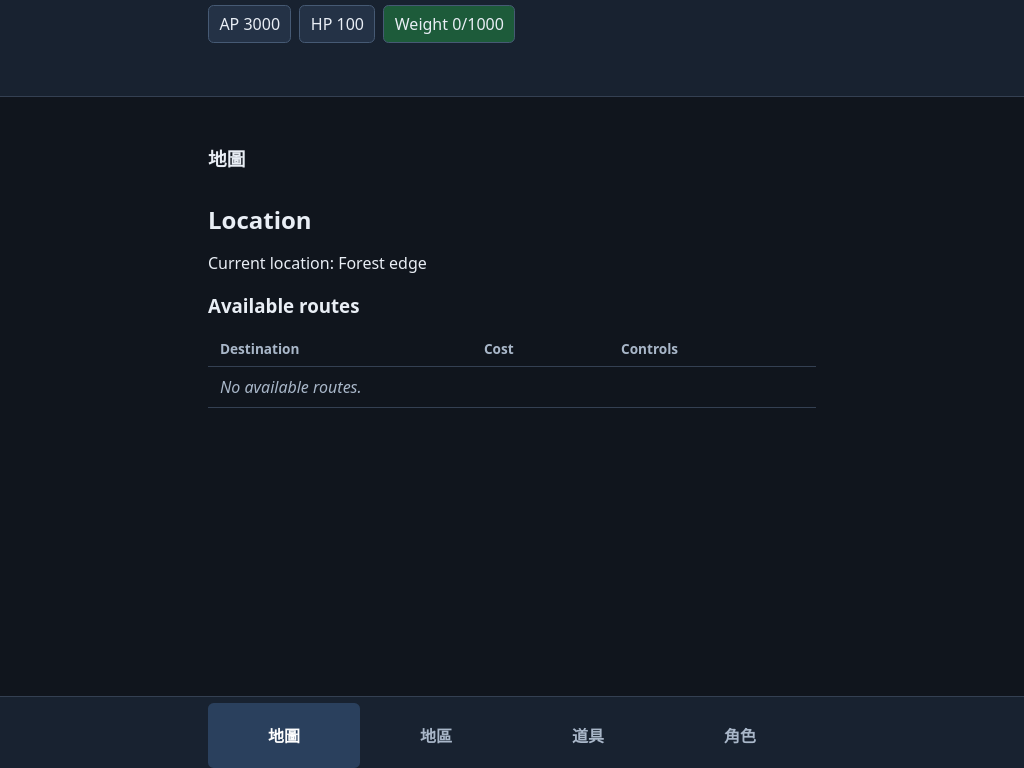
Test: App gameplay tab integration › assigns gathering, buildings, installation targets, and ground pickup to Area
The image size is (1024, 768).
Expected: the heading "地圖" is shown, [208,146,245,171]
Click the button "地區".
click(436, 735)  # box [360,703,512,767]
(page scrolled)
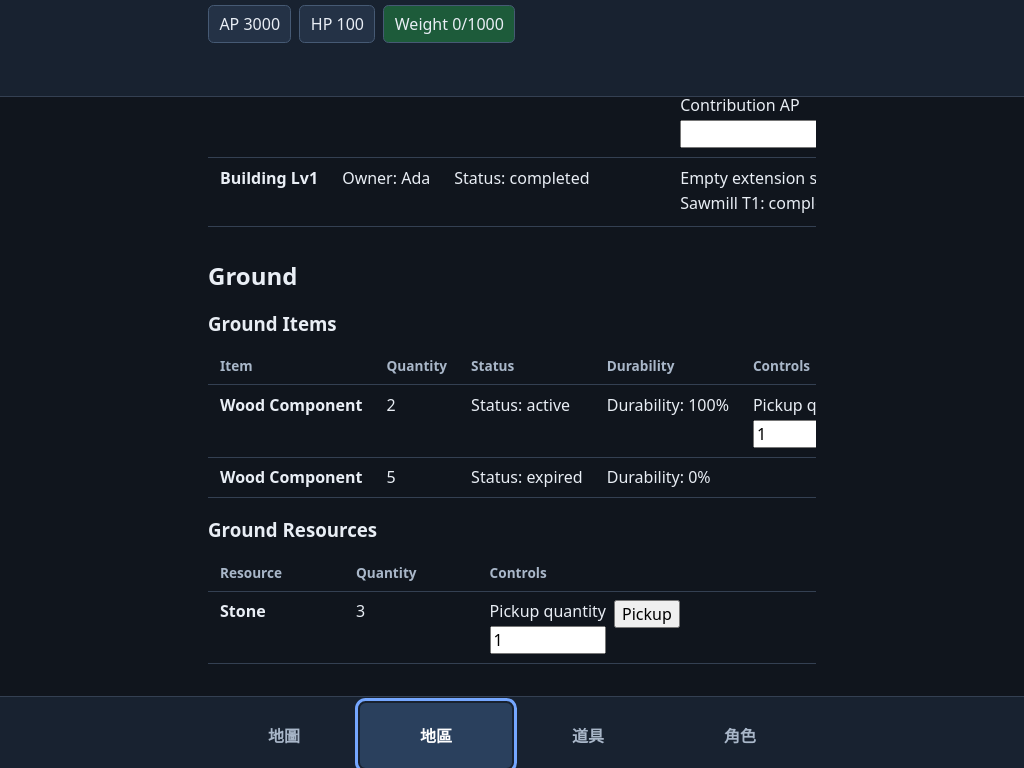
Now the table named "Ground Items" shows "Wood Component", box [220,394,362,416]
Now the table named "Ground Resources" shows "Stone", box [220,600,266,622]
Now the button with aria-label "Pickup Stone" is enabled, box [614,600,680,628]
